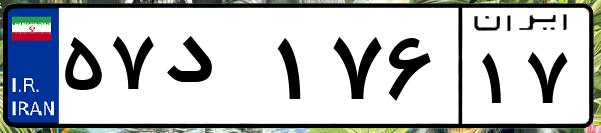1: (270, 28, 330, 110), (475, 38, 525, 113)
5: (57, 26, 110, 100)
6: (385, 28, 445, 110)
7: (330, 28, 385, 110), (525, 38, 570, 115), (110, 28, 158, 98)
د: (158, 20, 270, 120)
